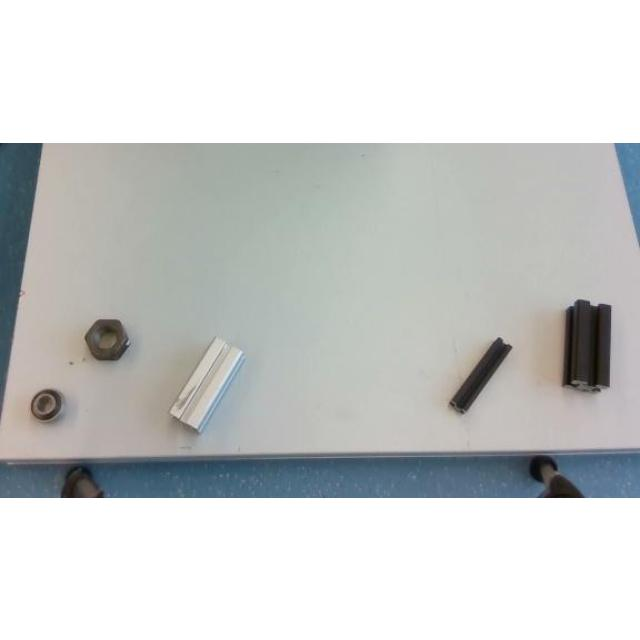Bearing2: (30, 388, 62, 420)
F20_20_B: (449, 336, 511, 412), (564, 298, 610, 389)
M30: (84, 319, 128, 359)
S40_40_G: (170, 337, 244, 431)
